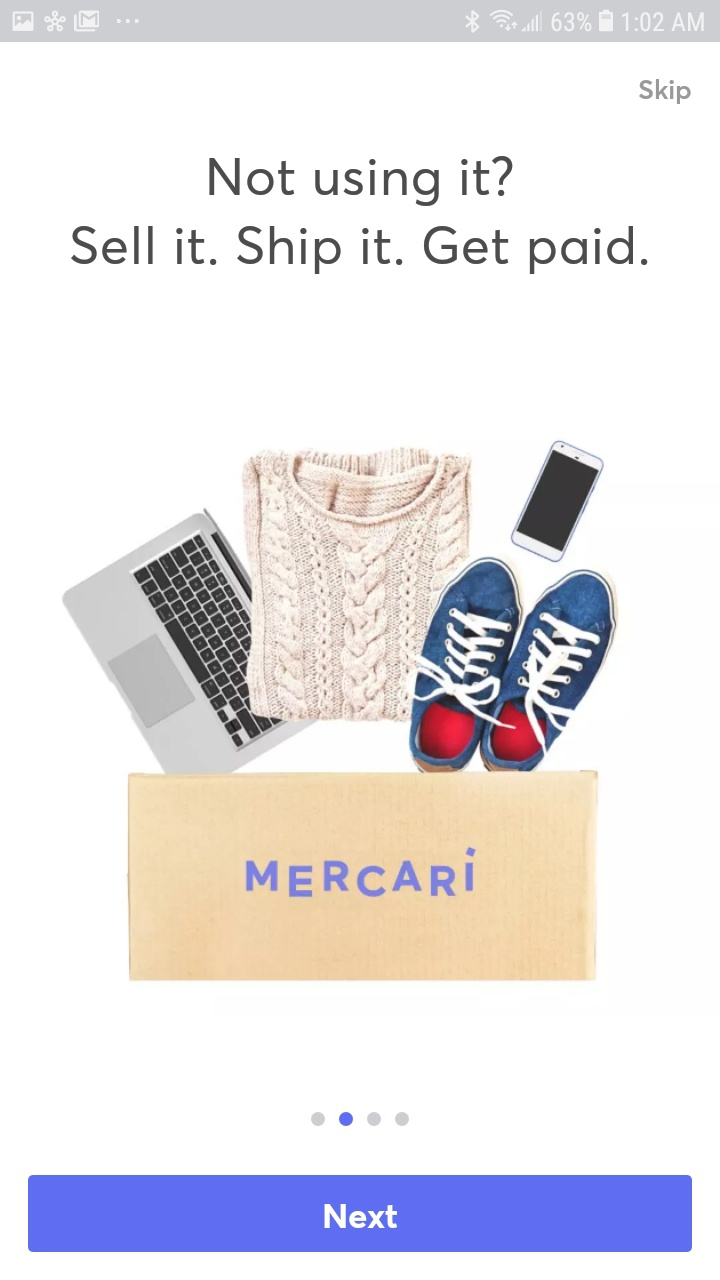Image: (62, 439, 621, 982)
PageIndicator: (311, 1111, 410, 1127)
Text: (71, 156, 648, 275), (638, 79, 691, 105)
TextButton: (28, 1175, 693, 1252)
UpperTaskBar: (1, 1, 720, 43)
